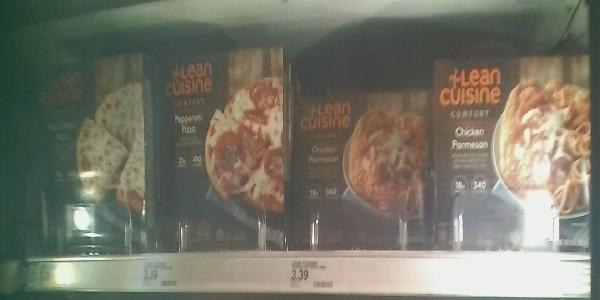pizza1: (437, 54, 589, 249), (156, 42, 291, 252), (26, 49, 155, 251), (294, 86, 435, 253)
